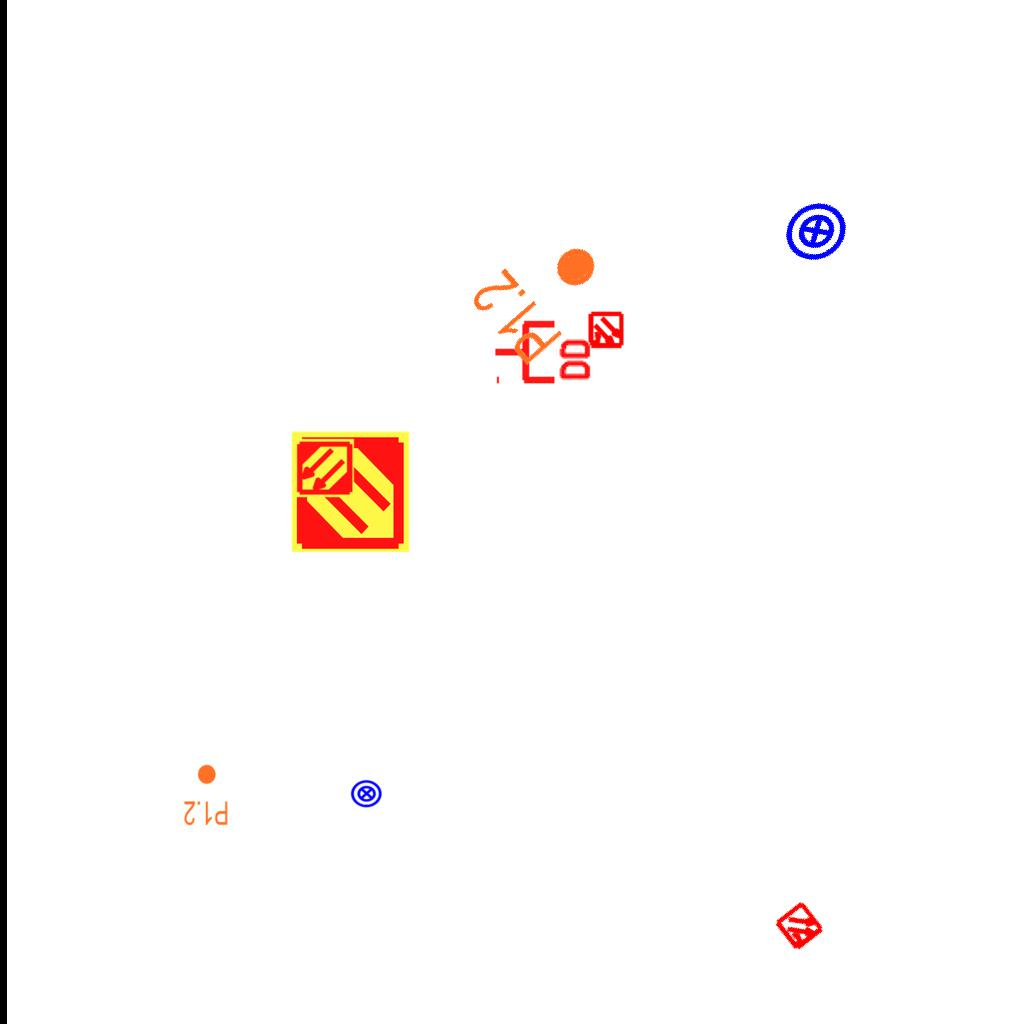ASR_Ansaugrauchmelder: (288, 429, 413, 554), (293, 437, 355, 499)
Datenanschluss_zweifach: (492, 316, 595, 385)
Downlight_LED_Einbauleuchten_Flur: (464, 215, 623, 371), (183, 763, 229, 827)
OT_Multisensormelder_(Kombination_RMO_WMD): (760, 887, 840, 967), (578, 303, 634, 359)
Taster_beleuchtet: (770, 185, 862, 277), (350, 777, 383, 810)
